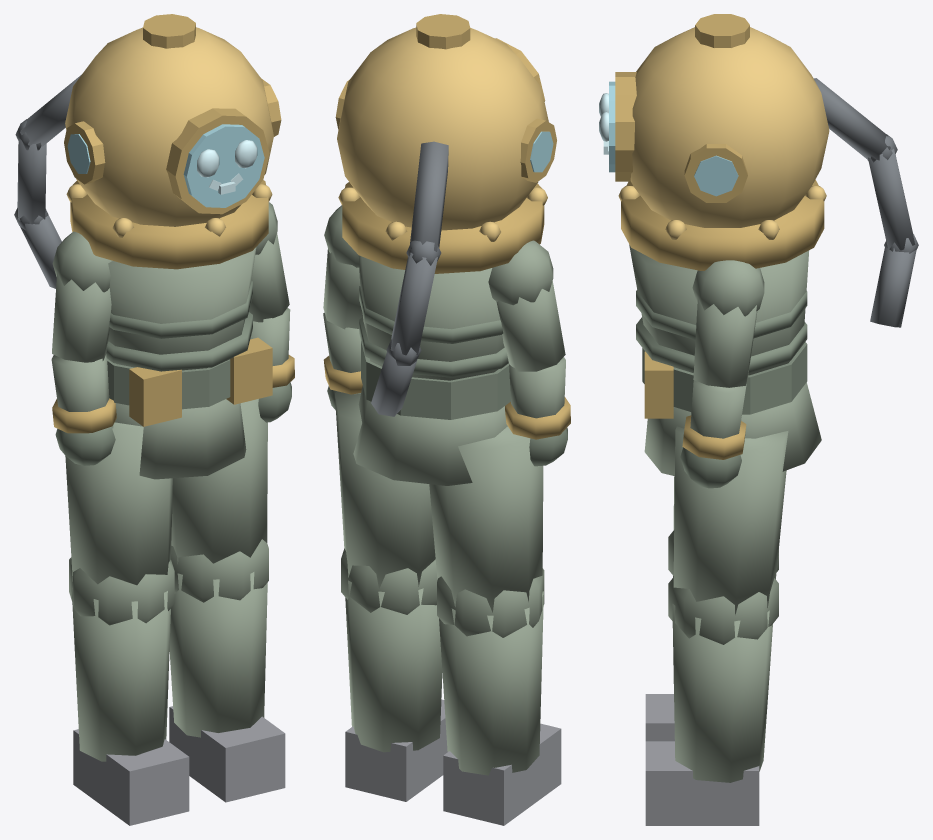
The model's file is meeple_12_taucher_stand.glb.
3 renders of one model, left to right at view 1: azimuth 30°, elevation 25°; view 2: azimuth 150°, elevation 25°; view 3: azimuth 270°, elevation 25°, orthographic.
Visible parts, largest first — view 1: meeple_12_taucher_stand; view 2: meeple_12_taucher_stand; view 3: meeple_12_taucher_stand.
Part boxes in pixels (left/top/right/bottom): meeple_12_taucher_stand: left=14, top=14, right=294, bottom=825; meeple_12_taucher_stand: left=323, top=14, right=570, bottom=825; meeple_12_taucher_stand: left=599, top=14, right=918, bottom=825.
Size of the model in its own units: 0.5118 by 1.59 by 0.6046.
